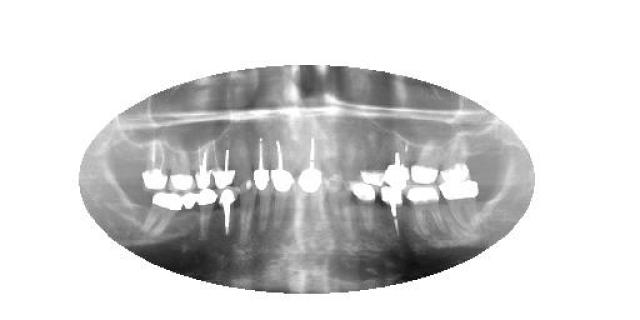Fillings: (440, 181, 481, 231), (406, 185, 446, 236), (141, 192, 184, 238), (410, 139, 442, 185), (440, 138, 470, 182), (352, 182, 377, 232), (196, 188, 218, 242), (170, 146, 195, 192), (360, 165, 386, 186), (182, 192, 196, 212)
Implant: (140, 138, 169, 192), (298, 136, 322, 194), (379, 185, 405, 237), (270, 138, 295, 192), (216, 186, 238, 239), (194, 146, 215, 190), (214, 146, 236, 188), (385, 149, 410, 185), (254, 134, 268, 190)
